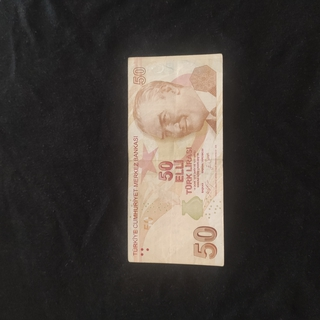50TLFront: (127, 52, 224, 267)
